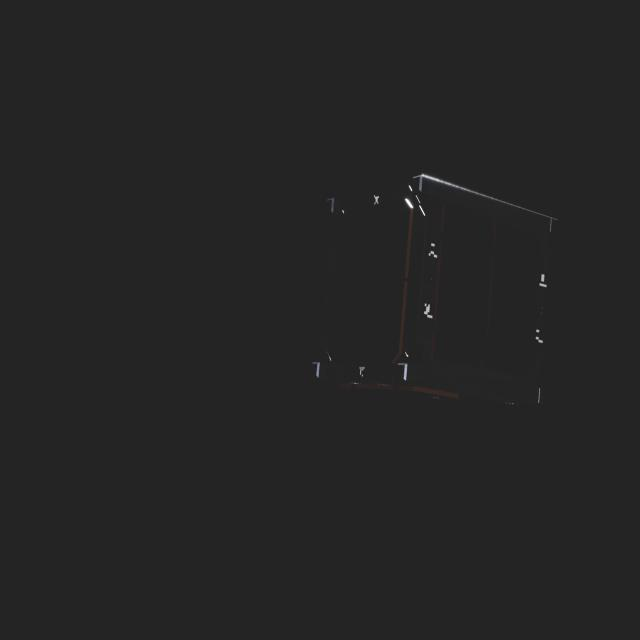medium_debris: (284, 161, 563, 455)
